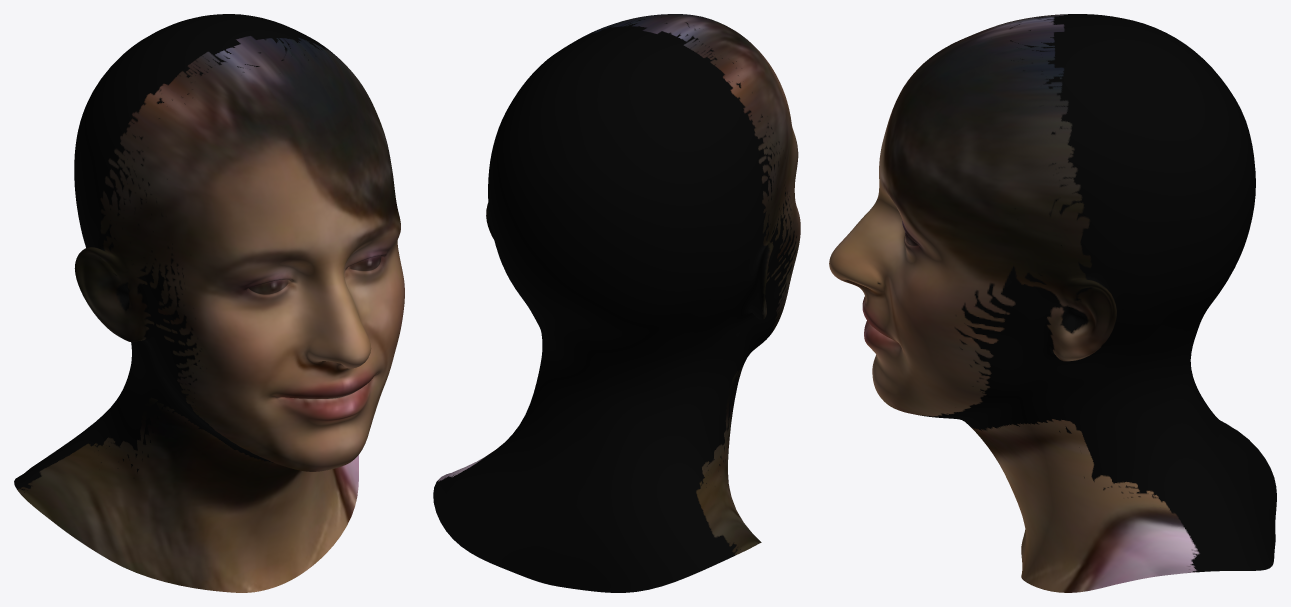
The picture shows the model from 3 angles, left to right: view 1: azimuth 30°, elevation 25°; view 2: azimuth 150°, elevation 25°; view 3: azimuth 270°, elevation 25°; orthographic projection. The views are drawn at different scales.
Parts seen in each view (by area): view 1: FBHead; view 2: FBHead; view 3: FBHead.
Part boxes in pixels (x1=…): FBHead: x1=14, y1=14, x2=404, y2=592; FBHead: x1=433, y1=14, x2=800, y2=592; FBHead: x1=829, y1=14, x2=1276, y2=592.
Bounding box in the file's own units: 1.82 × 2.91 × 2.19.
1 material, 1 textured.
